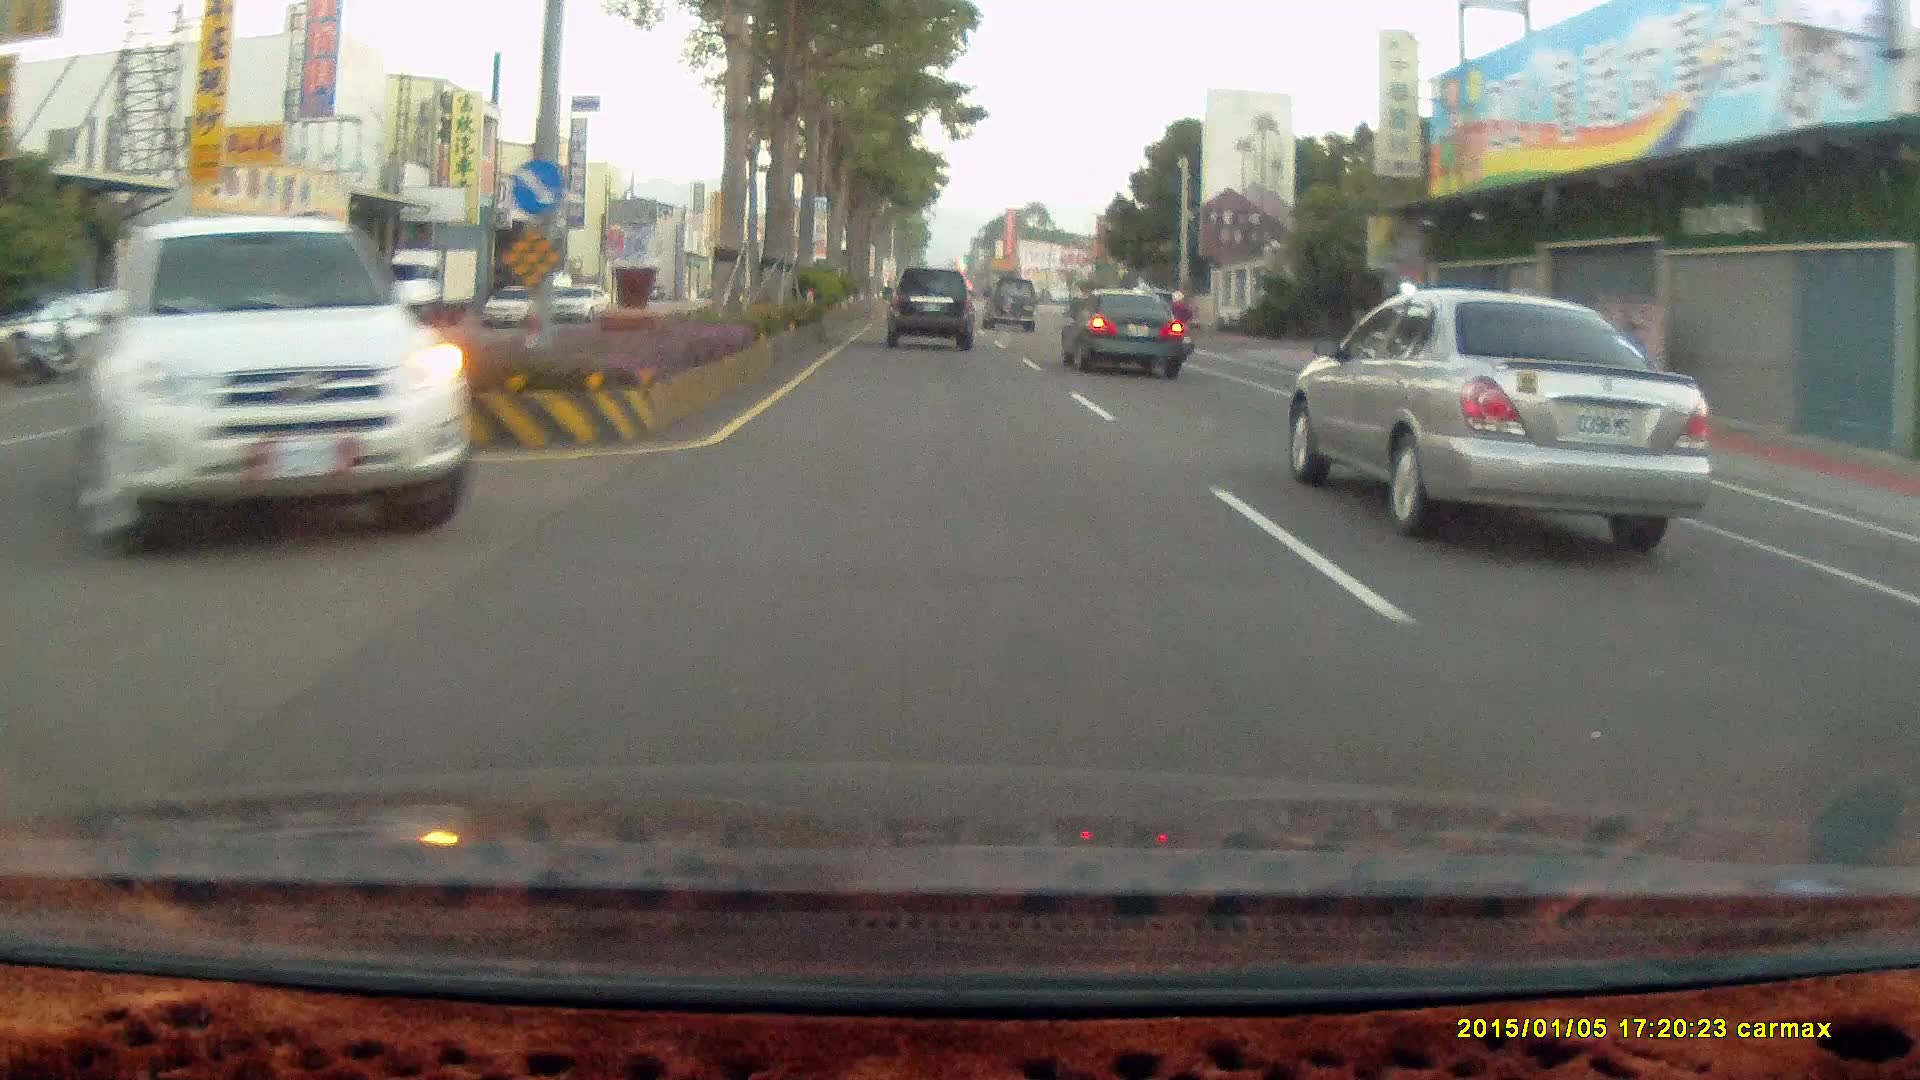rider: (1154, 286, 1197, 362)
vehicle: (62, 213, 469, 554), (84, 217, 466, 550), (1292, 290, 1711, 543), (1057, 287, 1183, 378), (1063, 295, 1194, 379), (91, 286, 215, 371), (882, 264, 980, 355), (383, 245, 479, 324), (883, 266, 974, 350), (981, 277, 1038, 333), (981, 275, 1037, 331), (484, 288, 548, 333), (483, 283, 547, 327)
